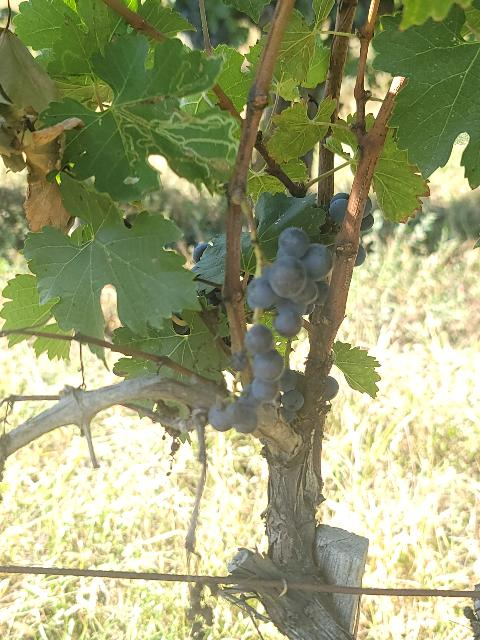grapes: (209, 324, 304, 434), (246, 228, 332, 338)
